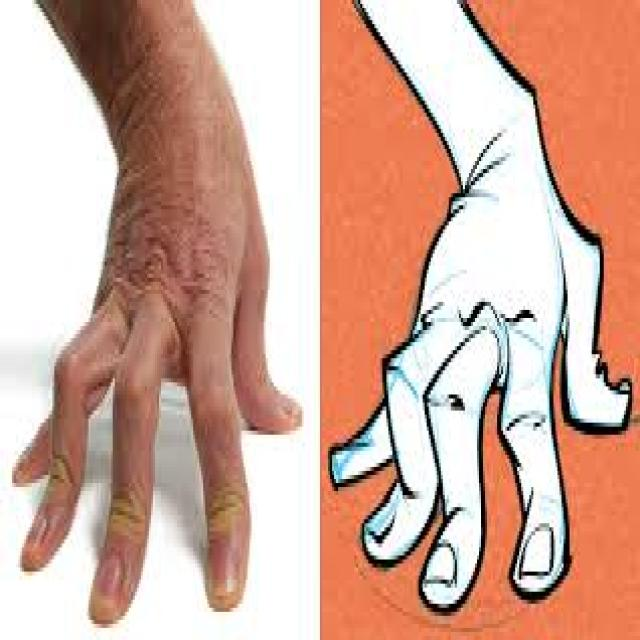hand: (11, 32, 316, 640)
